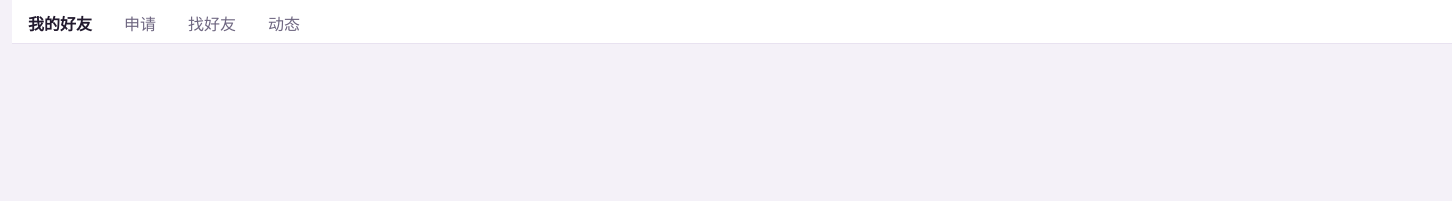
Test case: FriendsView › 好友列表还在读时点"动态"：动态照样读出来（好友 e2e 偶发失败的原因）
The image size is (1452, 201).
Click the tab with test id "tab-feed".
click(284, 24)  # box [252,4,316,44]
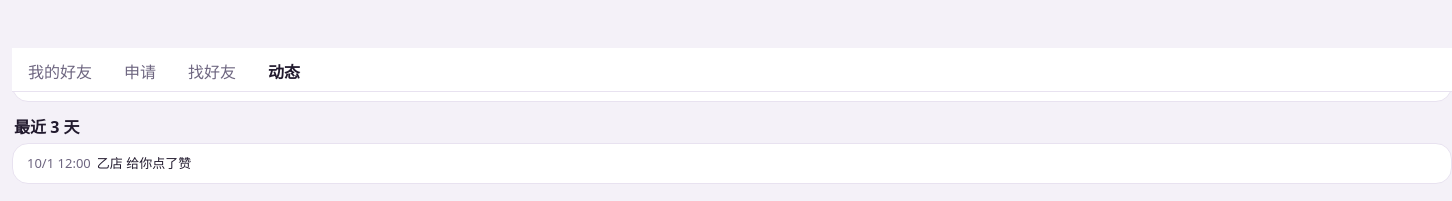
Check: the text "乙店 给你点了赞" is shown, box [97,154,191,173]
